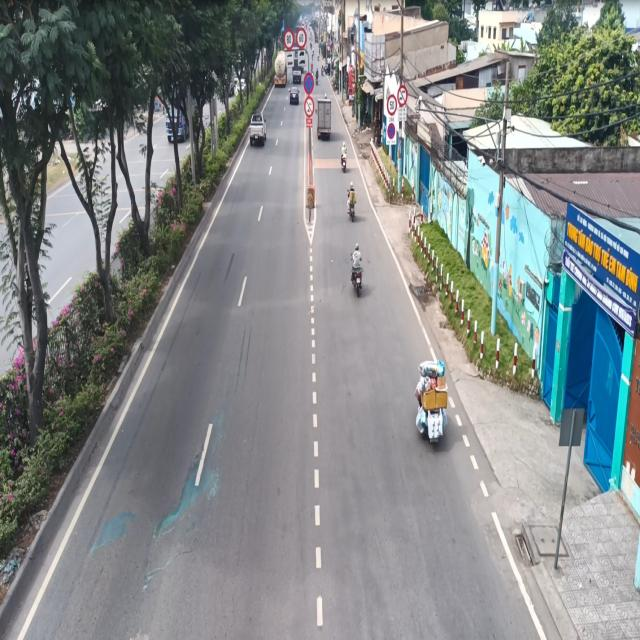car: (248, 100, 268, 157)
motor: (348, 233, 363, 297), (346, 176, 360, 220), (339, 136, 347, 174)
